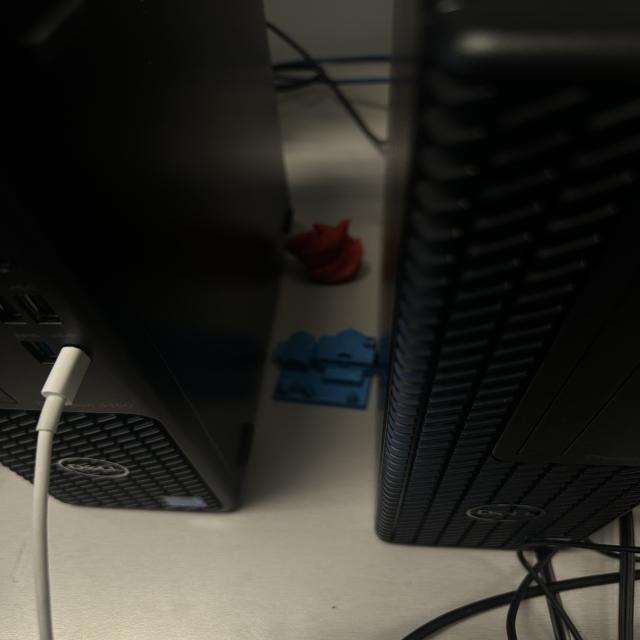fire: (281, 215, 367, 285)
house: (268, 324, 382, 412)
